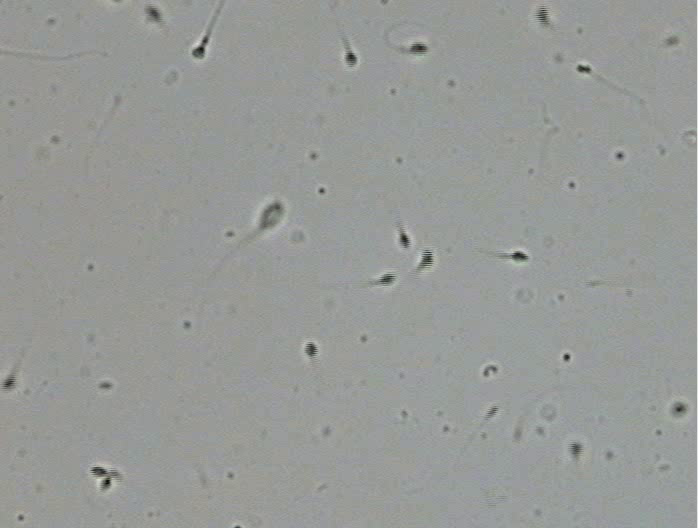S: (260, 201, 285, 230), (419, 249, 434, 270), (535, 5, 550, 25), (378, 272, 396, 286), (344, 50, 357, 69), (409, 42, 428, 55), (145, 6, 161, 21), (568, 441, 583, 457), (304, 341, 318, 358), (510, 251, 529, 263), (398, 232, 411, 249), (90, 465, 108, 477), (2, 375, 16, 390), (672, 402, 686, 416), (192, 45, 205, 59), (99, 478, 112, 491), (576, 64, 592, 74)
